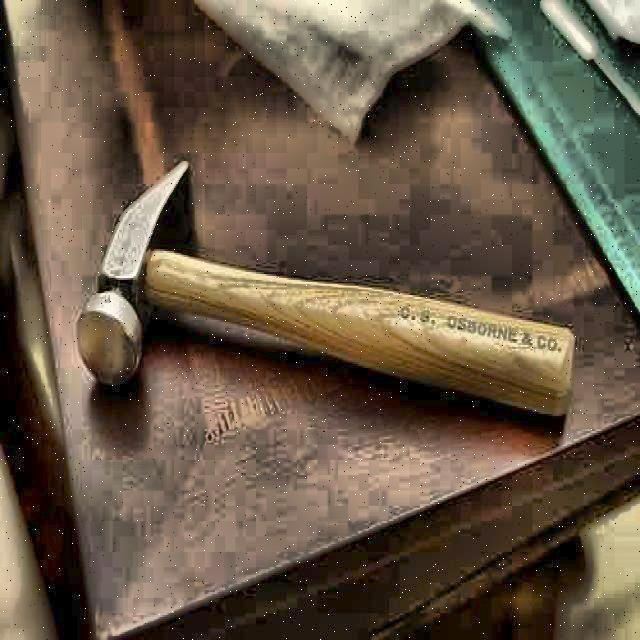hammer: (77, 160, 579, 420)
